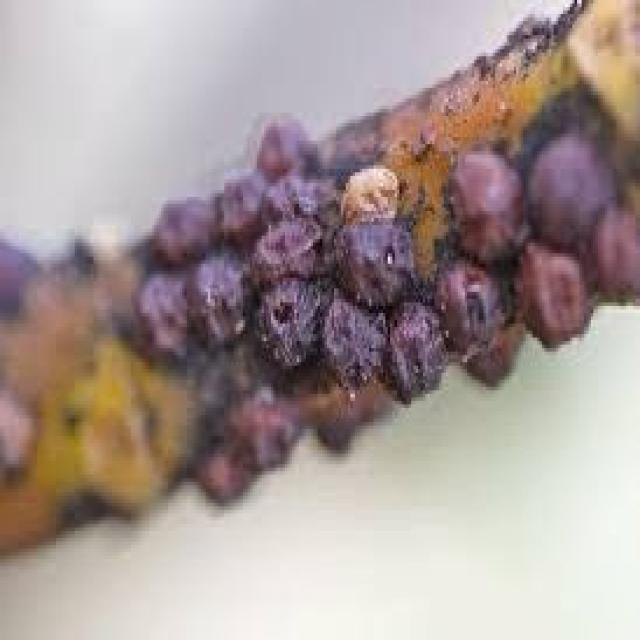Black Scale: (135, 120, 446, 409), (434, 127, 638, 390)
